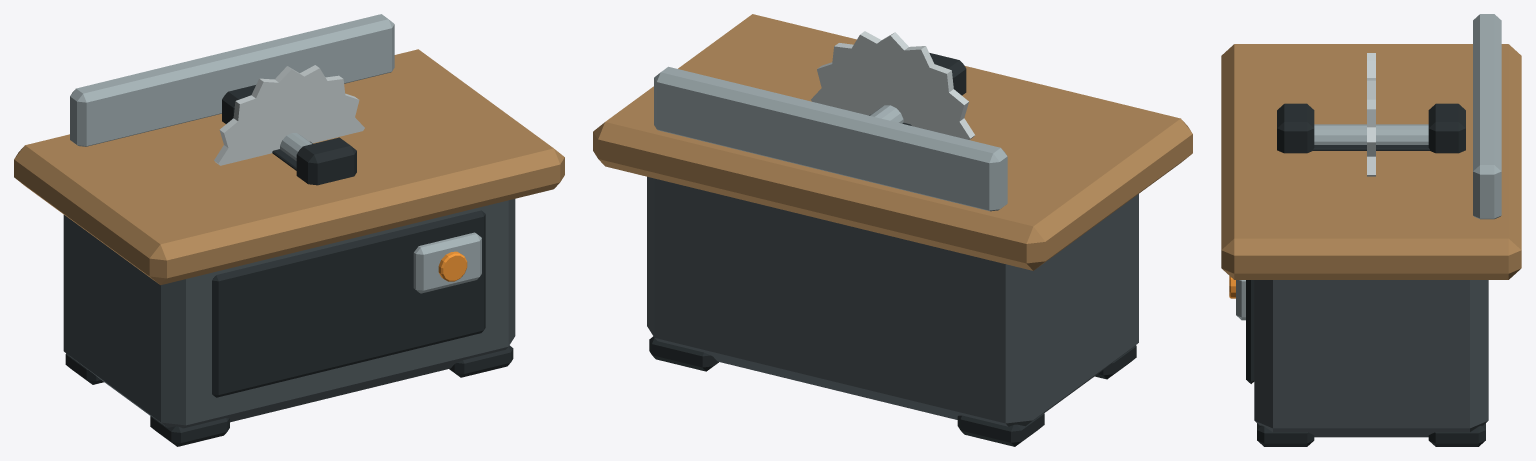
File: FTF_Tool_WoodProcessingTable_VerticalCircularSaw.glb
3 views of the same model, side by side, from view 1: azimuth 30°, elevation 25°; view 2: azimuth 150°, elevation 25°; view 3: azimuth 270°, elevation 25° (orthographic). The views are drawn at different scales.
Visible parts, largest first — view 1: WoodProcessingTable_Body, CircularSawBlade; view 2: WoodProcessingTable_Body, CircularSawBlade; view 3: WoodProcessingTable_Body, CircularSawBlade.
Boxes of the visible parts, x1,y1,x2,y2 form: WoodProcessingTable_Body: [14, 14, 564, 446]; CircularSawBlade: [214, 65, 364, 165]; WoodProcessingTable_Body: [593, 14, 1192, 446]; CircularSawBlade: [811, 31, 974, 139]; WoodProcessingTable_Body: [1221, 14, 1521, 446]; CircularSawBlade: [1367, 53, 1375, 176].
Bounding box in the file's own units: 1.7 × 1.18 × 1.05.
